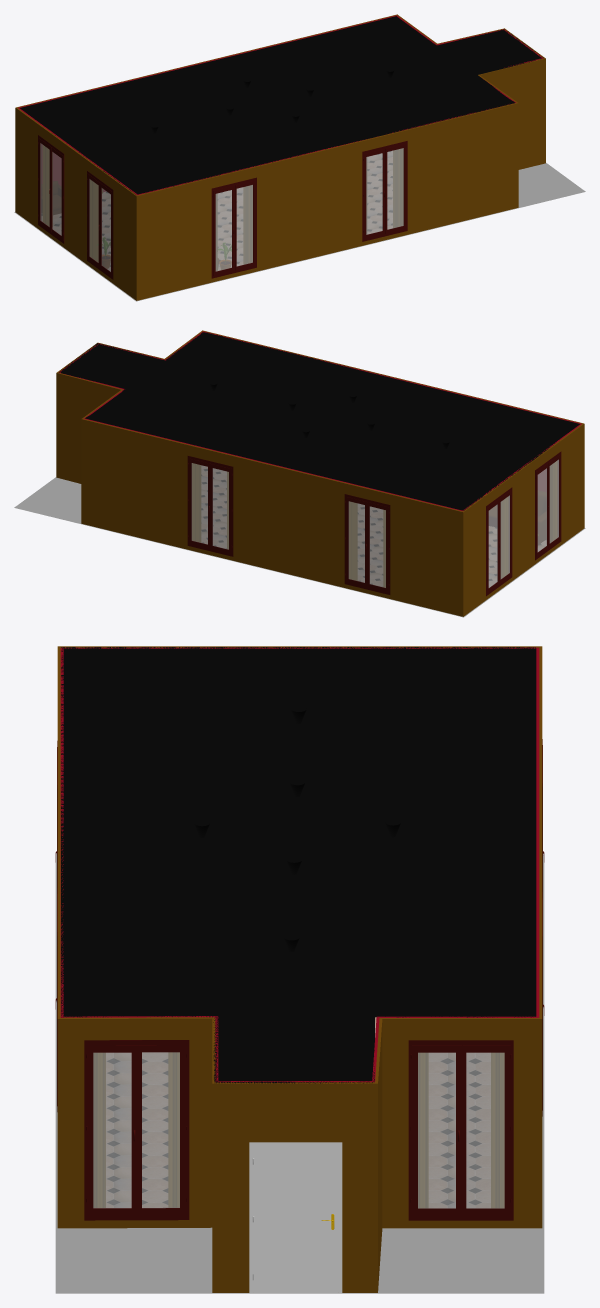
The model's file is NASA APP BASE.obj.
3 views of the same model, one above another, from view 1: azimuth 30°, elevation 25°; view 2: azimuth 150°, elevation 25°; view 3: azimuth 270°, elevation 25° (orthographic). The views are drawn at different scales.
Parts seen in each view (by area): view 1: room_11_51, wall_3_16, wall_4_22, room_11_50, wall_7_35, room_12_53, ground_1, sweethome3d_window_pane_on_hinge_1_87, sweethome3d_window_pane_on_hinge_1_100, sweethome3d_window_pane_on_hinge_2_105, sweethome3d_window_pane_on_hinge_2_92, LeftCurtain_64_497 (+22 smaller); view 2: room_11_51, wall_1_4, wall_4_22, room_11_50, wall_10_47, room_12_53, ground_1, sweethome3d_window_pane_on_hinge_1_113, sweethome3d_window_pane_on_hinge_2_118, sweethome3d_window_pane_on_hinge_1_126, sweethome3d_window_pane_on_hinge_2_131, sweethome3d_window_pane_on_hinge_2_169 (+23 smaller); view 3: room_11_51, ground_1, wall_8_41, room_11_50, wall_2_10, wall_6_29, sweethome3d_opening_on_hinge_1_door_140, room_12_53, sweethome3d_window_pane_on_hinge_1_61, sweethome3d_window_pane_on_hinge_2_79, sweethome3d_window_pane_on_hinge_1_74, sweethome3d_window_pane_on_hinge_2_66 (+17 smaller).
Boxes of the visible parts, x1,y1,x2,y2 form: room_11_51: [20, 16, 515, 194]; wall_3_16: [136, 103, 518, 300]; wall_4_22: [15, 108, 136, 300]; room_11_50: [42, 151, 392, 271]; wall_7_35: [480, 58, 545, 169]; room_12_53: [436, 29, 543, 74]; ground_1: [14, 163, 585, 301]; sweethome3d_window_pane_on_hinge_1_87: [215, 190, 231, 271]; sweethome3d_window_pane_on_hinge_1_100: [366, 153, 382, 234]; sweethome3d_window_pane_on_hinge_2_105: [387, 148, 403, 229]; sweethome3d_window_pane_on_hinge_2_92: [236, 185, 252, 266]; LeftCurtain_64_497: [393, 148, 403, 227]; room_11_51: [85, 332, 579, 510]; wall_1_4: [81, 419, 463, 616]; wall_4_22: [463, 424, 584, 616]; room_11_50: [201, 466, 546, 587]; wall_10_47: [56, 373, 120, 483]; room_12_53: [59, 343, 163, 389]; ground_1: [14, 477, 585, 617]; sweethome3d_window_pane_on_hinge_1_113: [348, 501, 364, 582]; sweethome3d_window_pane_on_hinge_2_118: [369, 506, 385, 587]; sweethome3d_window_pane_on_hinge_1_126: [191, 463, 207, 544]; sweethome3d_window_pane_on_hinge_2_131: [212, 468, 228, 549]; sweethome3d_window_pane_on_hinge_2_169: [549, 459, 558, 543]; room_11_51: [61, 647, 536, 1017]; ground_1: [55, 854, 544, 1293]; wall_8_41: [212, 1083, 377, 1292]; room_11_50: [106, 1017, 490, 1207]; wall_2_10: [382, 1019, 542, 1228]; wall_6_29: [57, 1018, 212, 1228]; sweethome3d_opening_on_hinge_1_door_140: [253, 1145, 337, 1292]; room_12_53: [213, 1016, 374, 1083]; sweethome3d_window_pane_on_hinge_1_61: [93, 1052, 131, 1208]; sweethome3d_window_pane_on_hinge_2_79: [466, 1052, 504, 1208]; sweethome3d_window_pane_on_hinge_1_74: [418, 1052, 455, 1208]; sweethome3d_window_pane_on_hinge_2_66: [142, 1052, 179, 1208].
Size of the model in its own units: 1306 by 310 by 615.
Materials: 56 (1 with a texture image).
